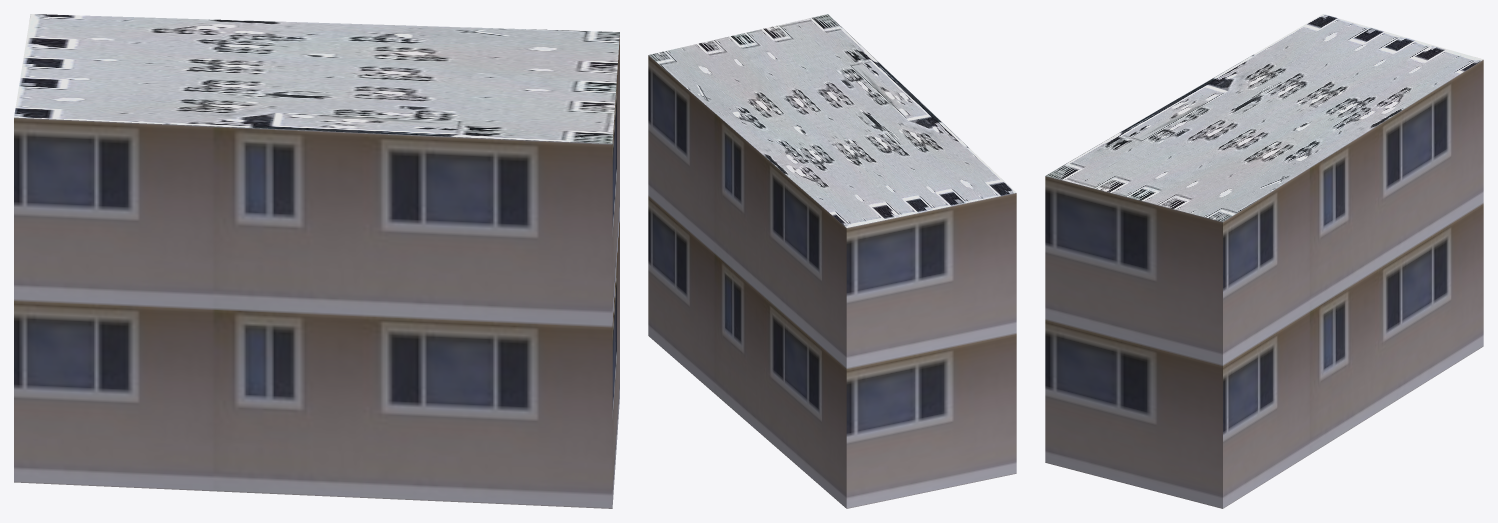
Rendered from ResTex__717.fbx.
3 views of the same model, side by side, from view 1: azimuth 30°, elevation 25°; view 2: azimuth 150°, elevation 25°; view 3: azimuth 270°, elevation 25° (orthographic). The views are drawn at different scales.
Parts seen in each view (by area): view 1: CityEngineMaterial_21_m, CityEngineMaterial_4_m; view 2: CityEngineMaterial_21_m, CityEngineMaterial_4_m; view 3: CityEngineMaterial_21_m, CityEngineMaterial_4_m.
Part boxes in pixels (bbox=[...]): CityEngineMaterial_21_m: bbox=[14, 35, 619, 508]; CityEngineMaterial_4_m: bbox=[14, 14, 619, 143]; CityEngineMaterial_21_m: bbox=[648, 55, 1016, 508]; CityEngineMaterial_4_m: bbox=[649, 14, 1016, 227]; CityEngineMaterial_21_m: bbox=[1045, 60, 1483, 508]; CityEngineMaterial_4_m: bbox=[1045, 14, 1483, 221].
Size of the model in its own units: 9.33 by 6 by 8.31.
2 materials, 2 textured.
